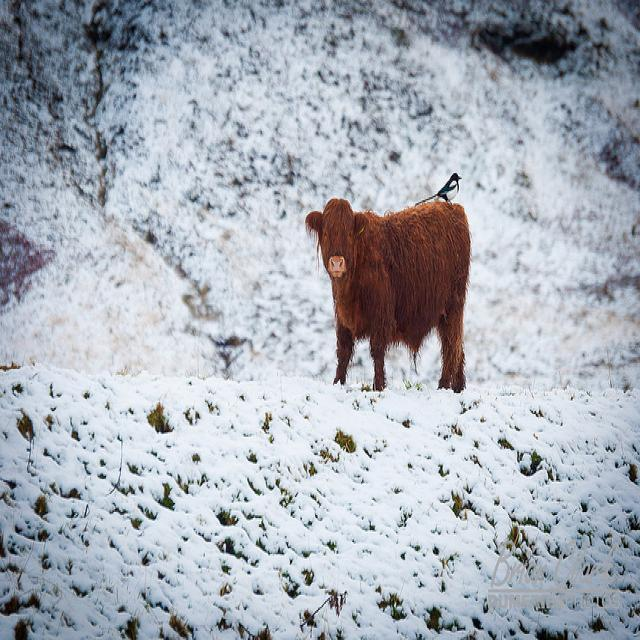cow: (302, 191, 467, 390)
